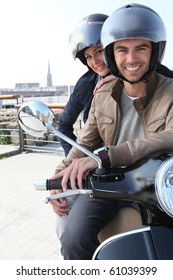helmets: (99, 3, 167, 73), (66, 14, 107, 60)
